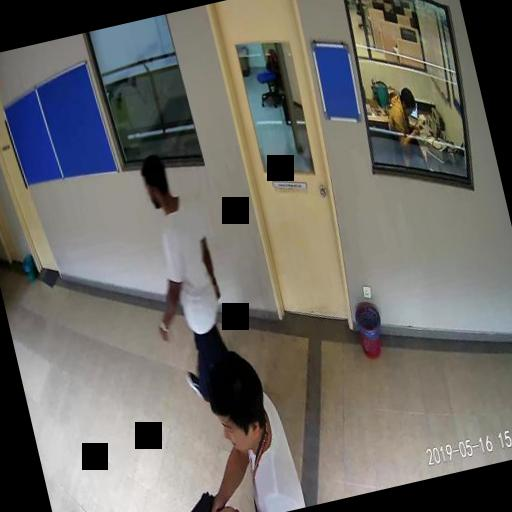Handgun: (171, 489, 223, 512)
